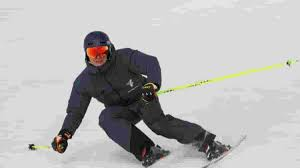skis: (137, 135, 250, 168)
